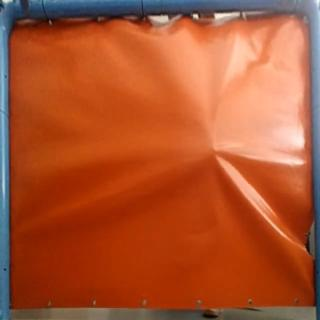Hit-hRxx: (206, 143, 223, 158)
